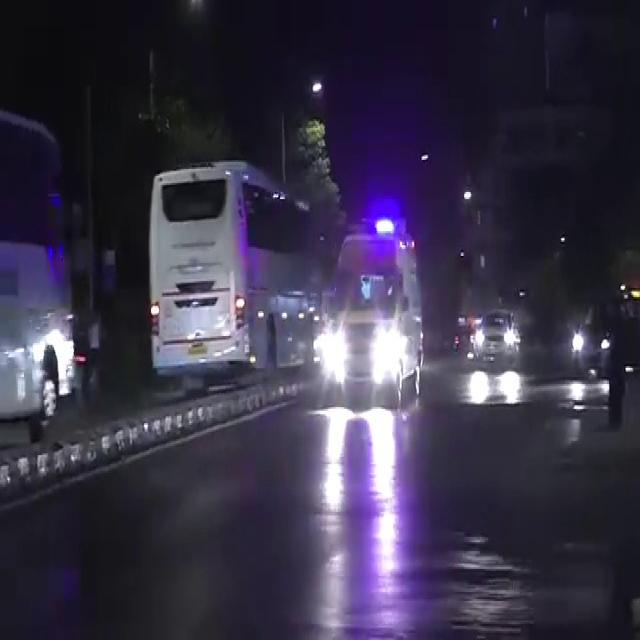ambulance: (306, 224, 447, 386)
